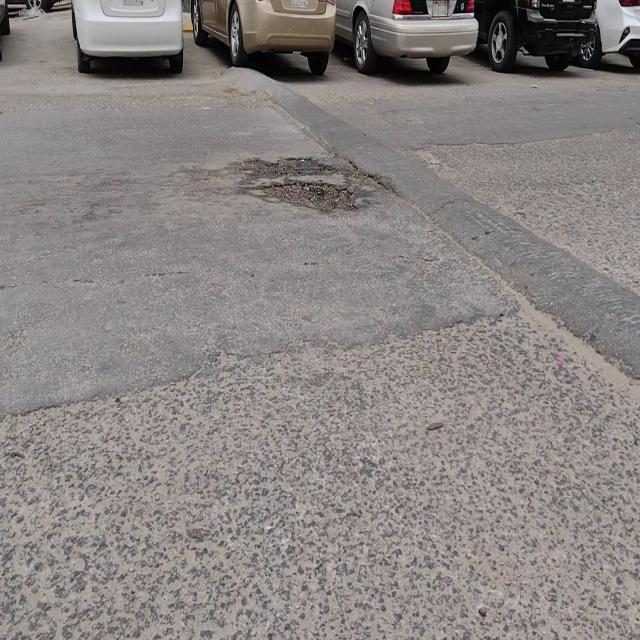Pothole: (253, 153, 355, 211)
